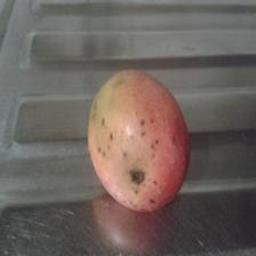Mango Semifresh: (75, 62, 193, 215)
